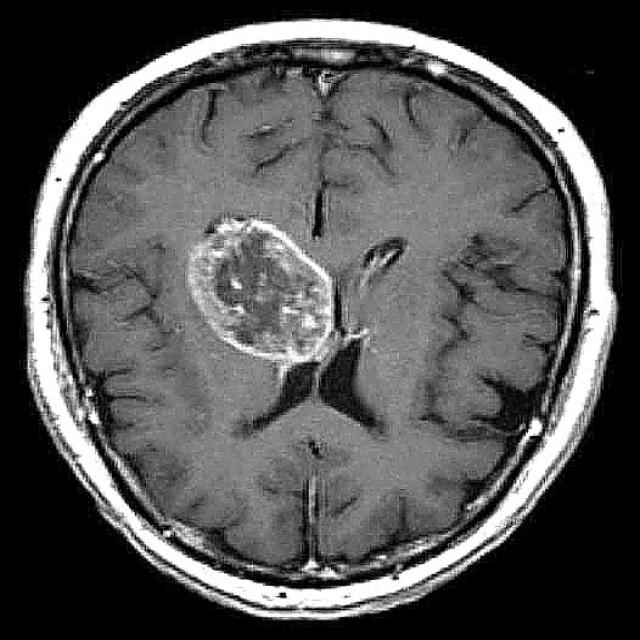Tumor-Cell: (169, 166, 344, 357)
